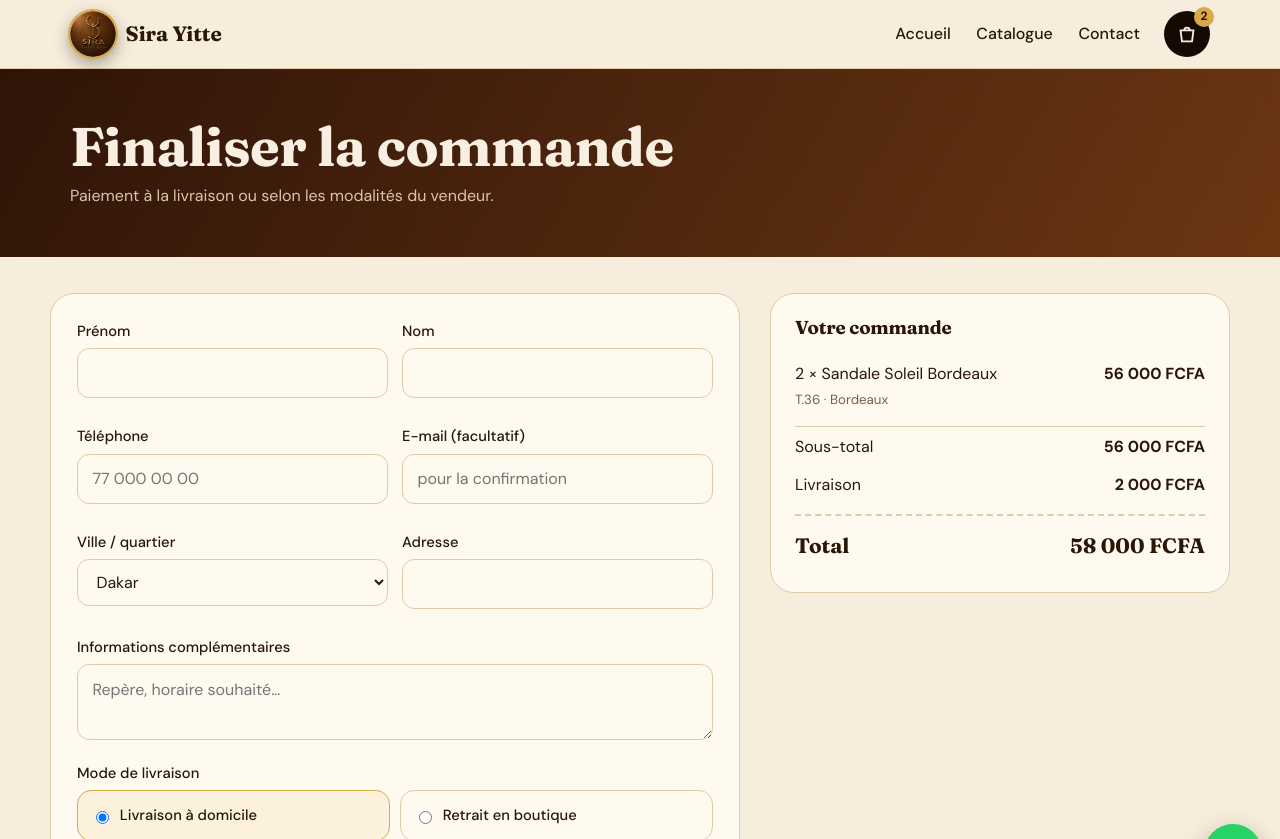
Test: Commande › envoie la commande à l’API, vide le panier et affiche la confirmation
In the field labelled "Prénom": (232, 373) [77, 348, 388, 398], type "Awa"
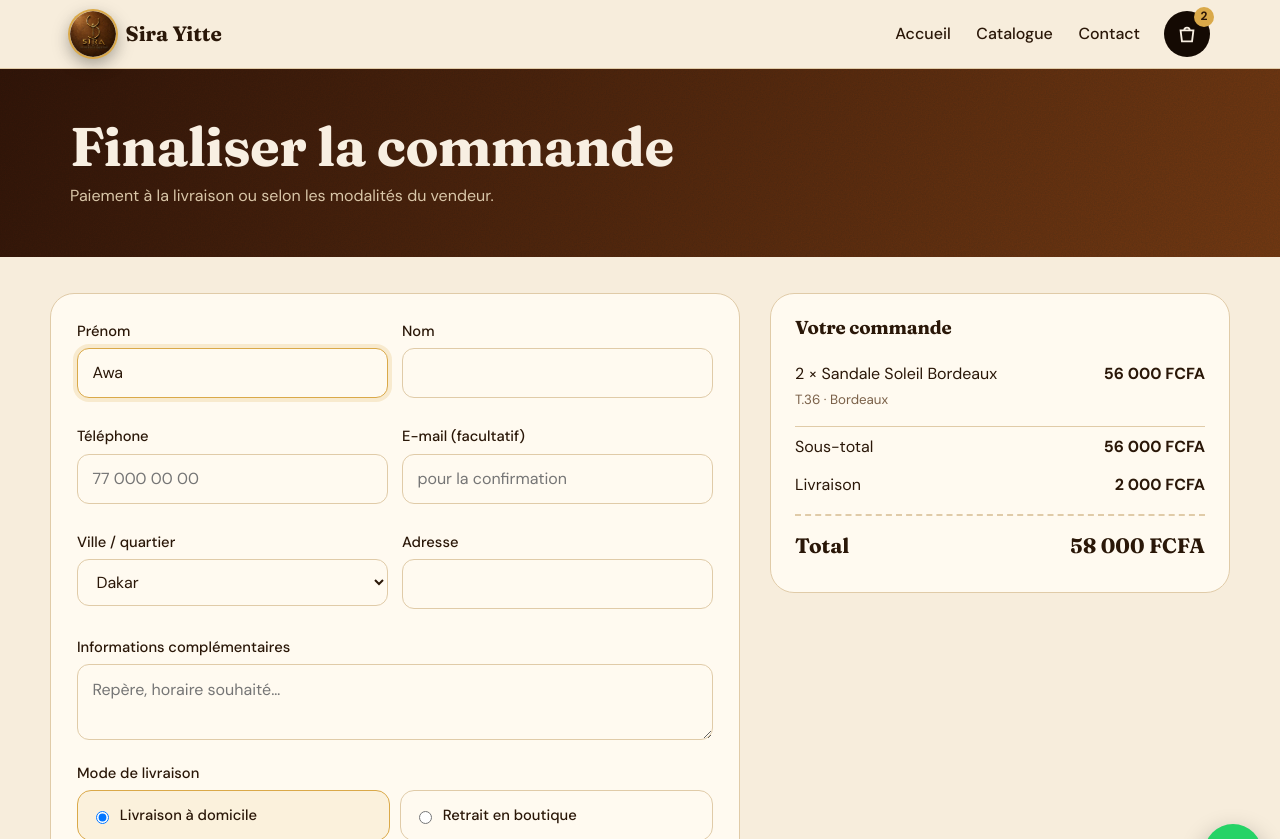
In the field labelled "Nom": (558, 373) [402, 348, 713, 398], type "Diop"
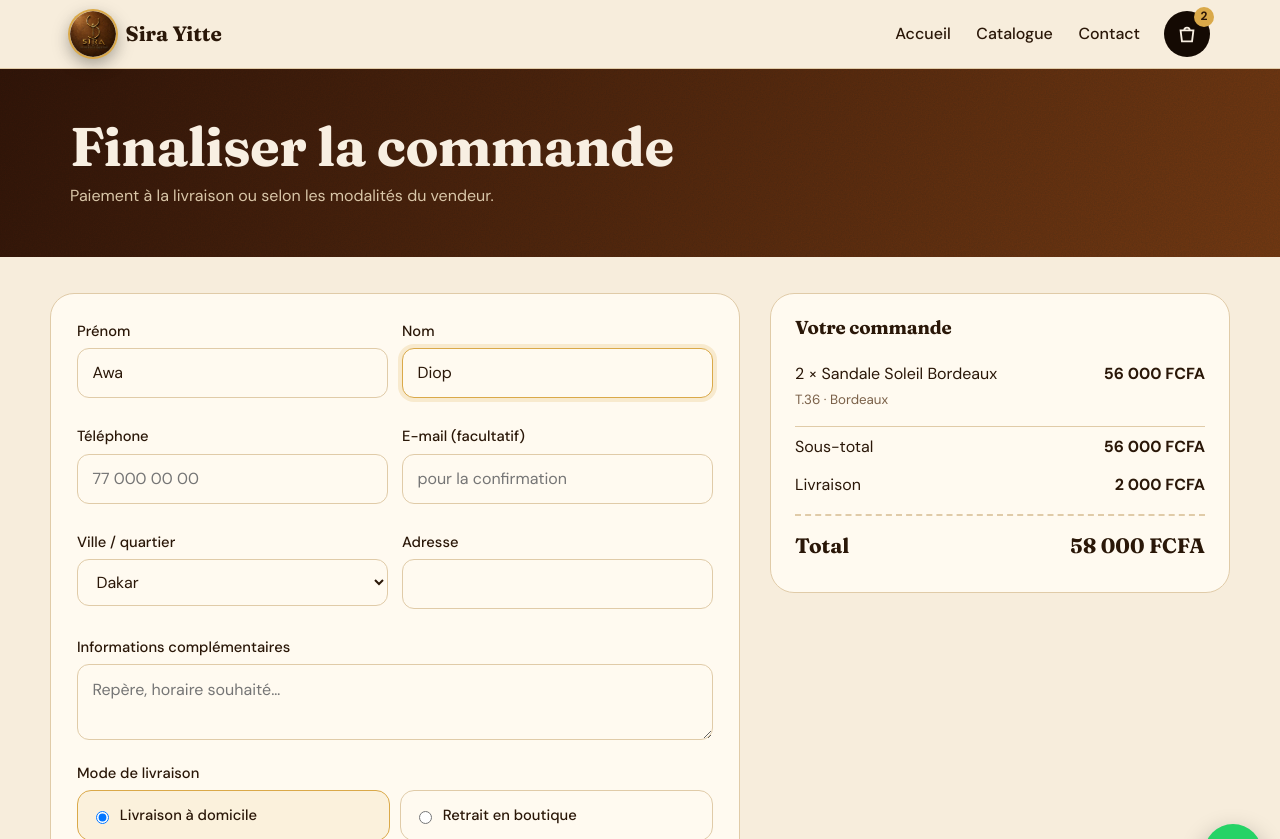
In the field labelled "Téléphone": (232, 479) [77, 454, 388, 504], type "77 412 08 15"
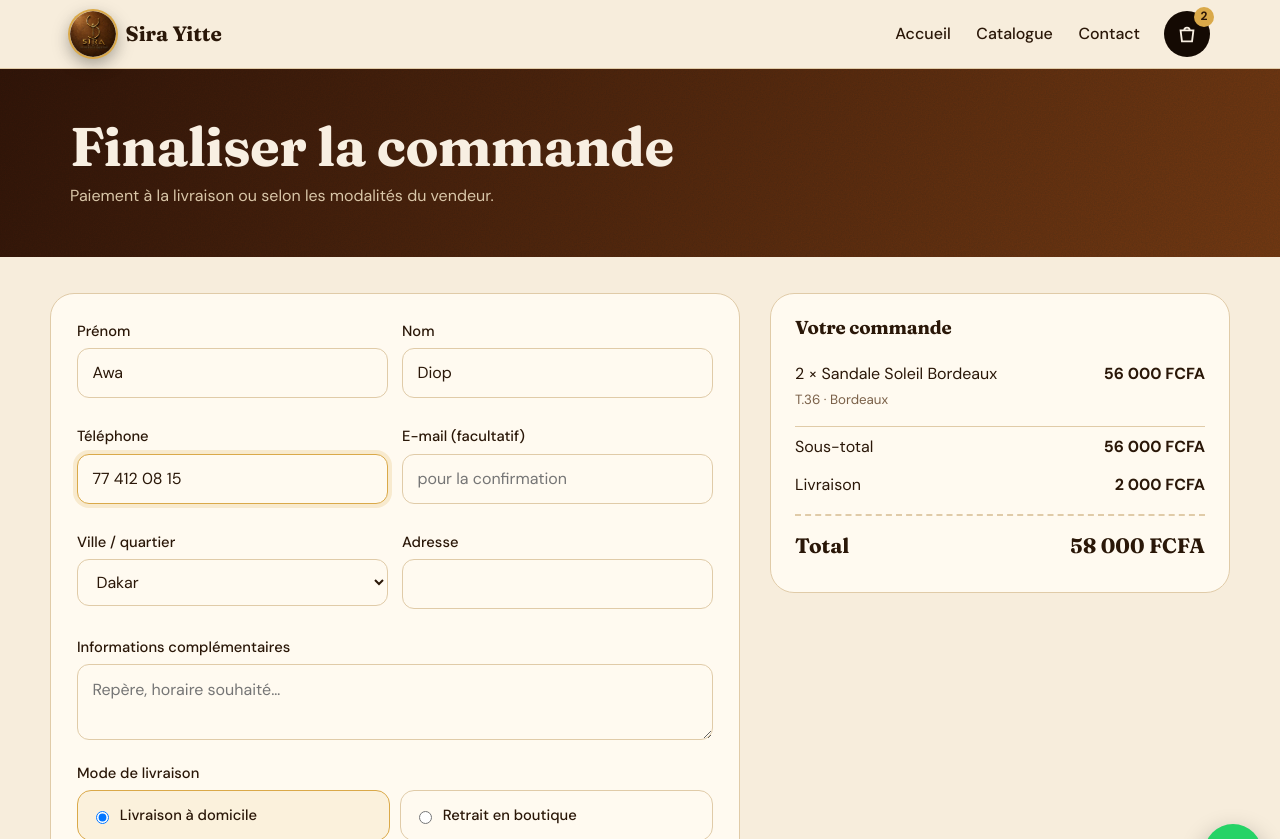
In the field labelled "Adresse": (558, 584) [402, 559, 713, 609], type "Rue 10, Pikine"
(page scrolled)
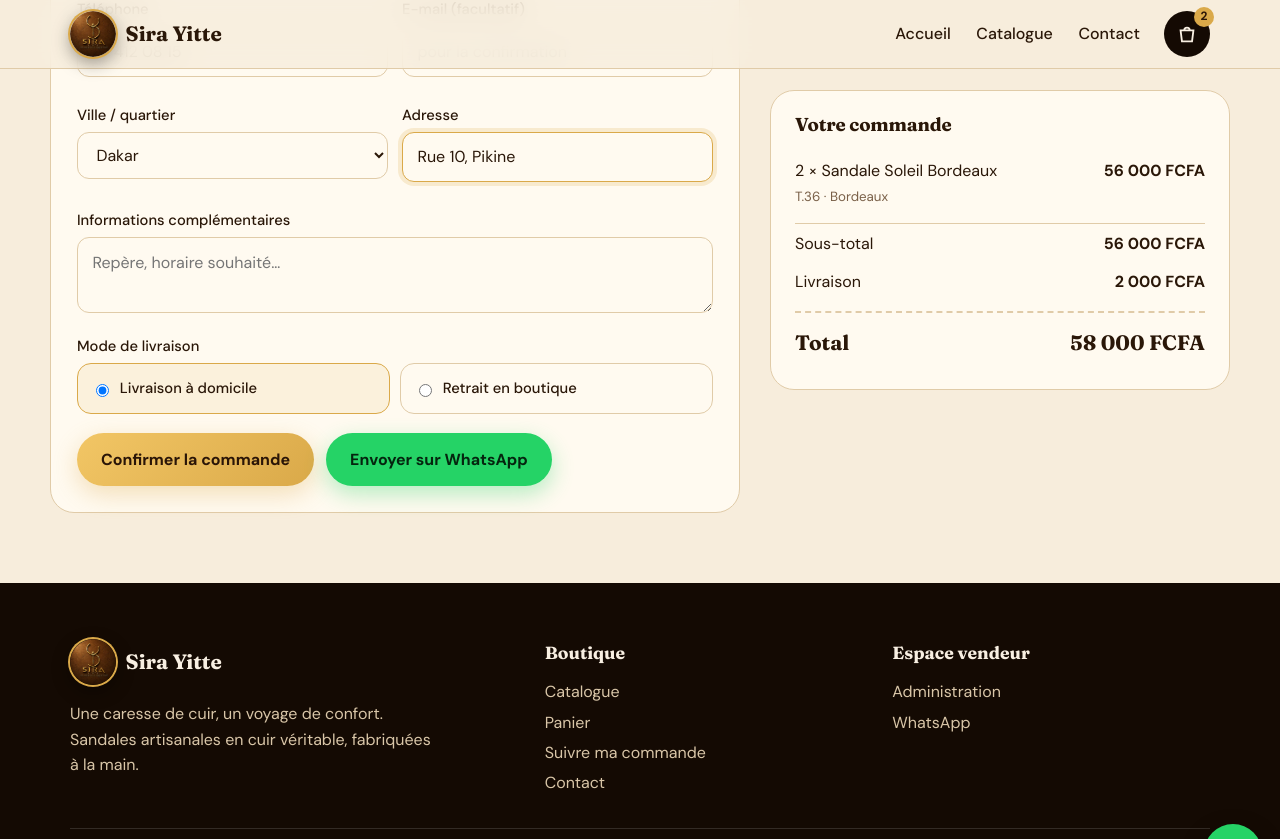
Click the button "Confirmer la commande": (196, 460) [77, 433, 314, 486]
(page scrolled)
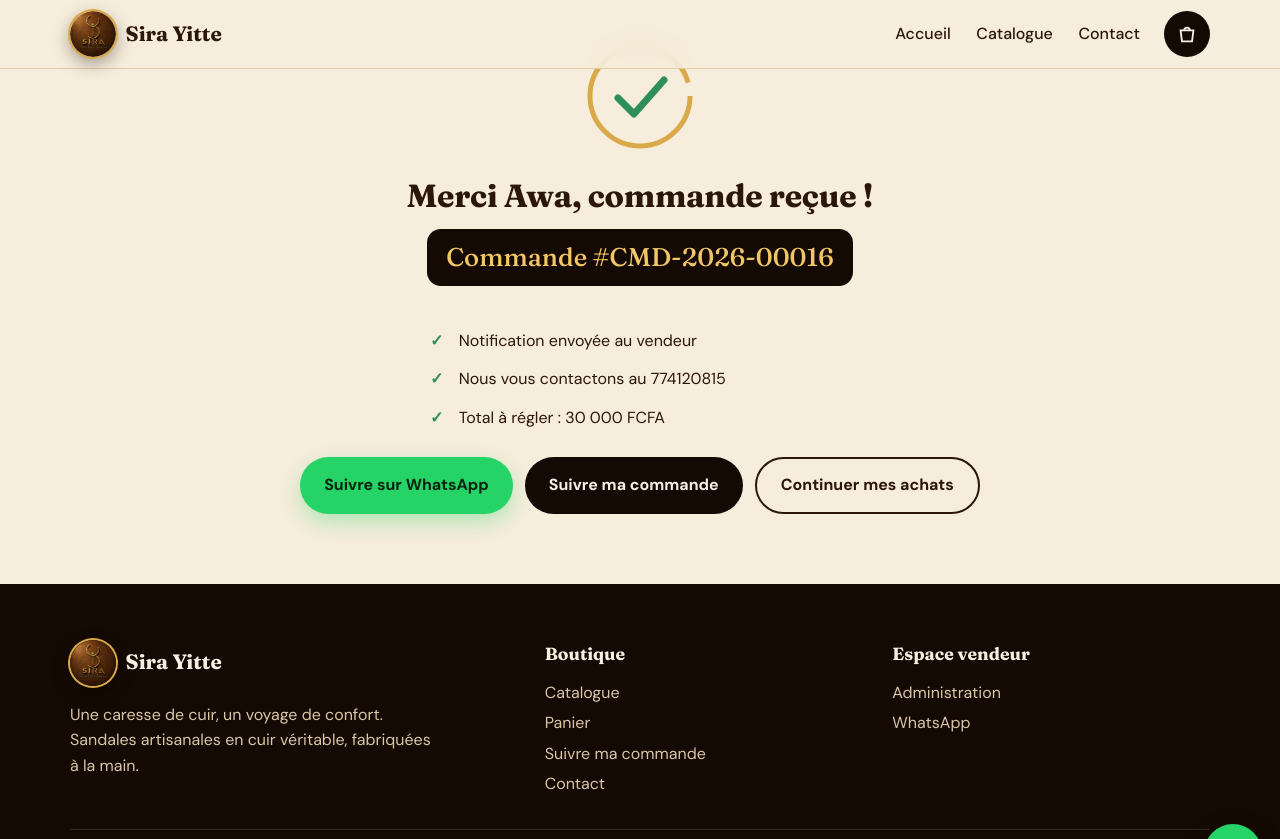
Expected: the heading "Merci Awa, commande reçue !" is shown, [407, 176, 873, 215]
